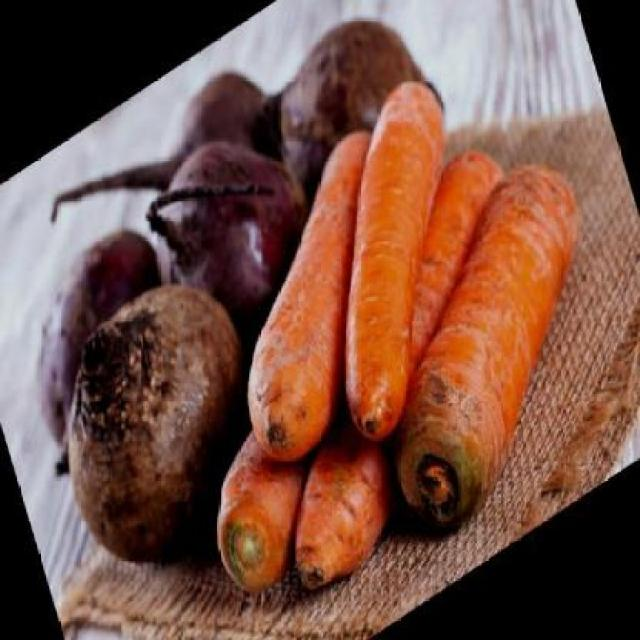carrot: (220, 131, 578, 603), (339, 136, 636, 550), (275, 62, 514, 452), (195, 122, 439, 480), (192, 388, 348, 610)
